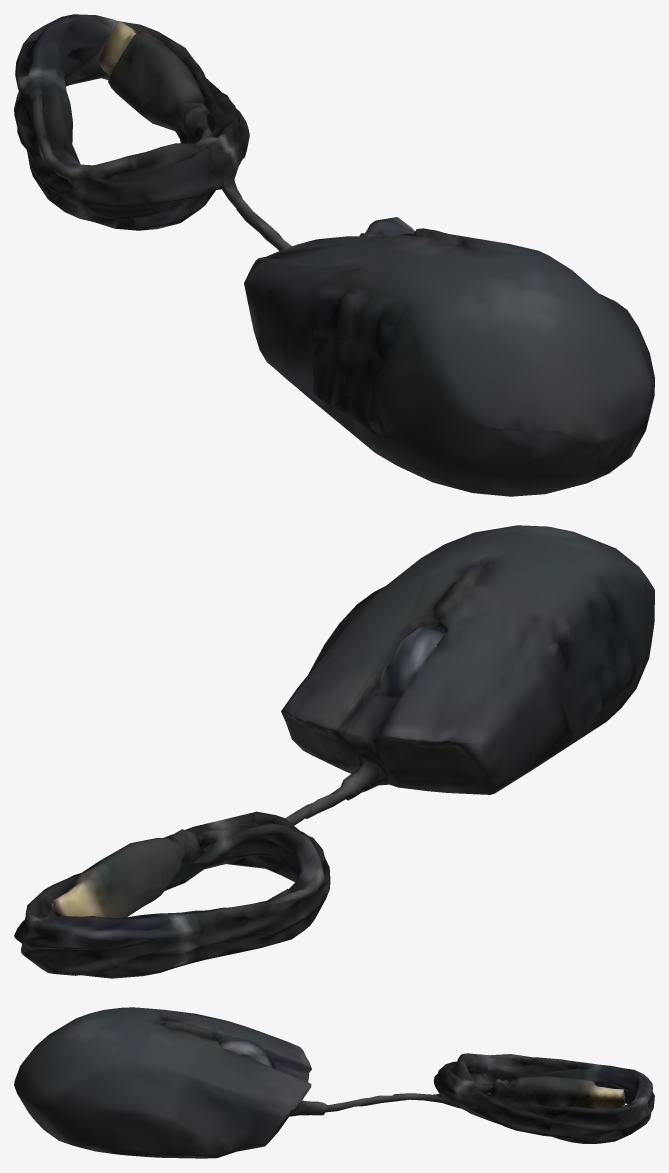
File: Razer_Naga_MMO_Gaming_Mouse-medium.glb
3 views of the same model, one above another, from view 1: azimuth 30°, elevation 25°; view 2: azimuth 150°, elevation 25°; view 3: azimuth 270°, elevation 25° (orthographic). The views are drawn at different scales.
Parts seen in each view (by area): view 1: Razer_Naga_MMO_Gaming_Mouse; view 2: Razer_Naga_MMO_Gaming_Mouse; view 3: Razer_Naga_MMO_Gaming_Mouse.
Boxes of the visible parts, x1,y1,x2,y2 form: Razer_Naga_MMO_Gaming_Mouse: (14,14,654,496); Razer_Naga_MMO_Gaming_Mouse: (14,525,654,978); Razer_Naga_MMO_Gaming_Mouse: (14,1007,654,1158).
Size of the model in its own units: 0.0748 by 0.0434 by 0.2551.
Materials: 1 (1 with a texture image).
